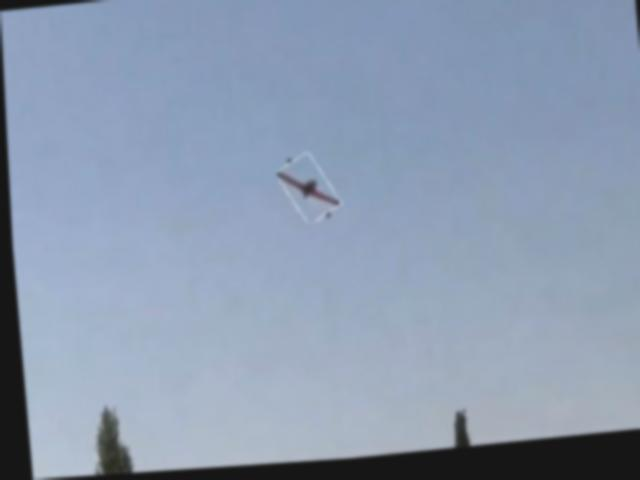insansiz-hava-araci: (279, 157, 335, 228)
